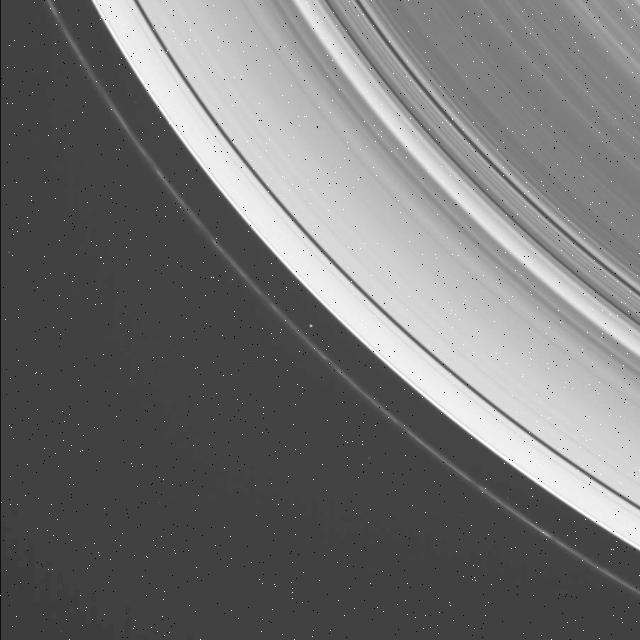Saturn: (23, 0, 640, 630)
